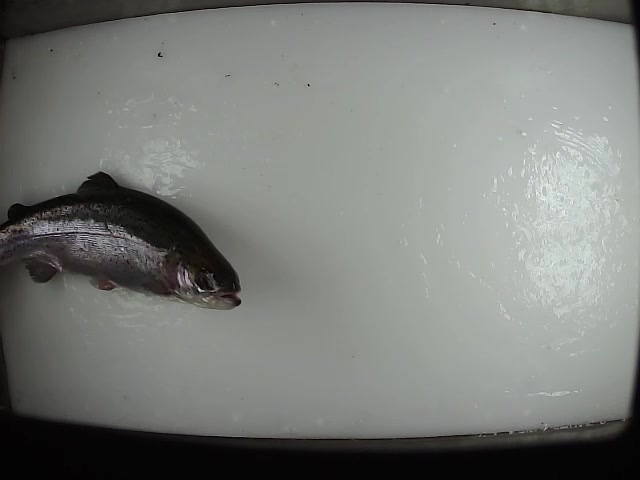fish: (1, 170, 243, 313)
